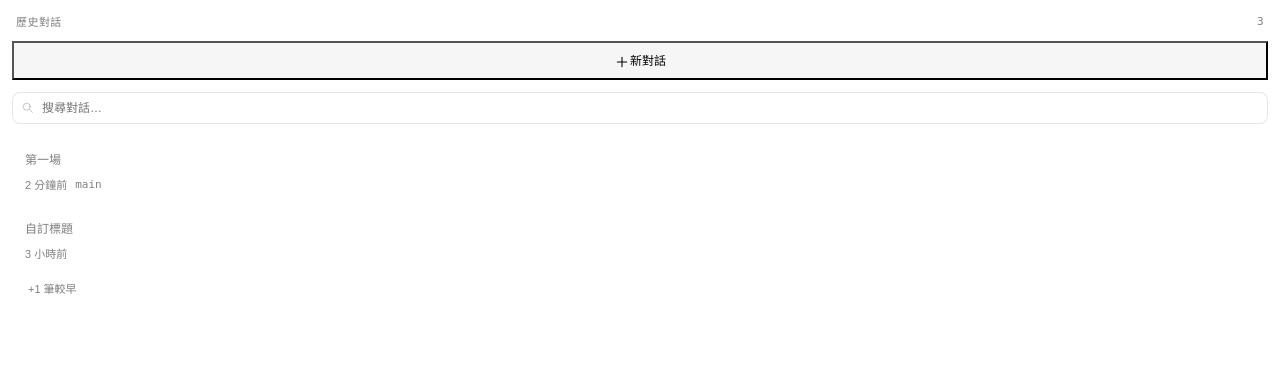
Scenario: Recents 依 thread 分組 › current 在較早那一筆時,head 不高亮,展開後那一筆才高亮
Click the button with class "recents-expand".
click(52, 288)  # box [20,276,85,300]
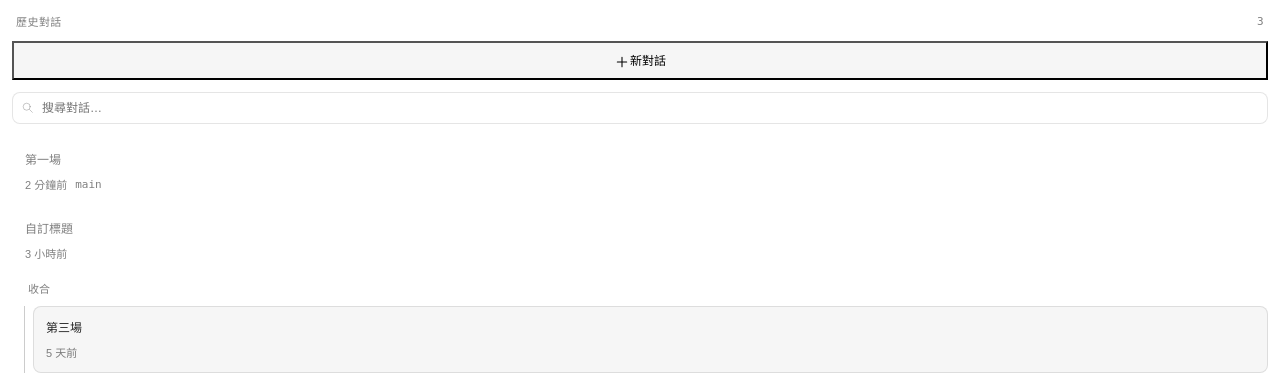
Expected: the text with class "recents-title" reads "第三場", [46,321,82,335]
